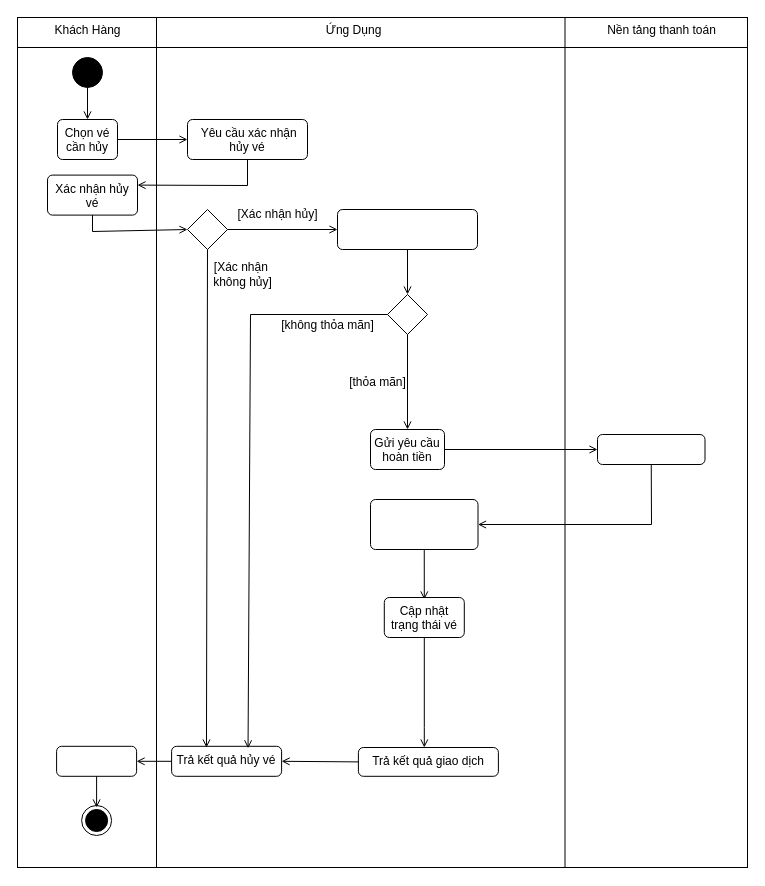
Some shapes in this 765 by 886 pixel diagram are drawn without their labels. Each missing label, with the box of its shape:
Hoàn tiền: (596, 434, 705, 464)
Kiểm tra kết quả hoàn tiền: (370, 498, 478, 550)
Kiểm tra điều kiện hủy vé: (336, 208, 478, 250)
Xác nhận: (56, 745, 137, 776)
